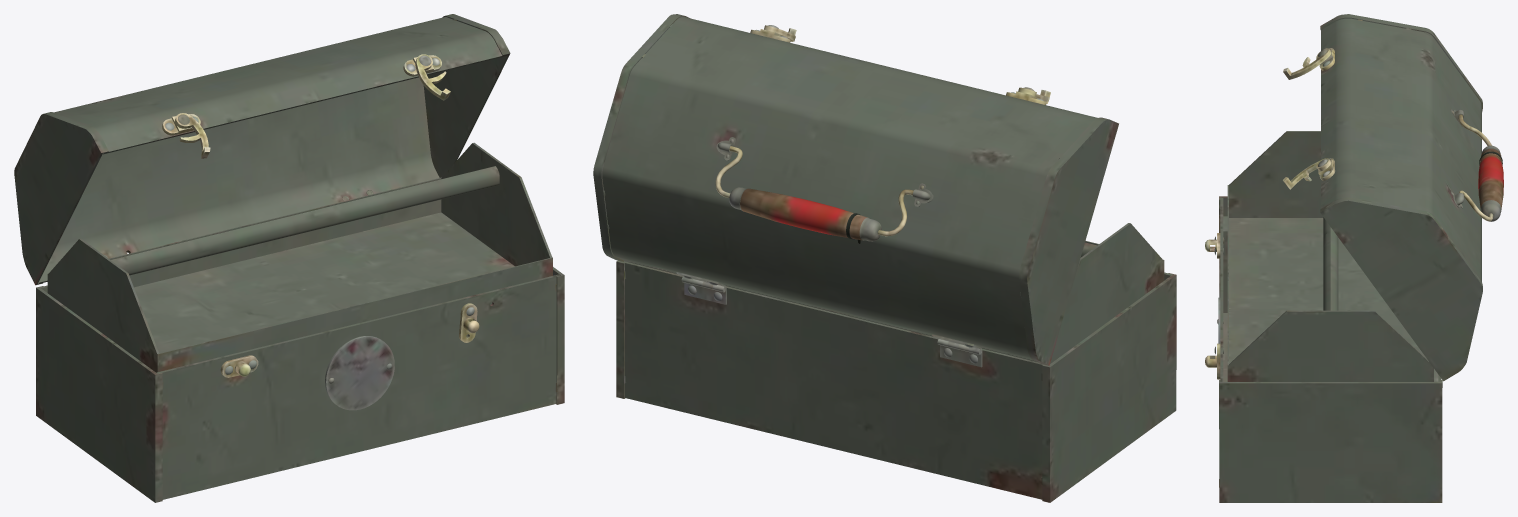
The model's file is flight-box.glb.
3 renders of one model, left to right at view 1: azimuth 30°, elevation 25°; view 2: azimuth 150°, elevation 25°; view 3: azimuth 270°, elevation 25°, orthographic. The views are drawn at different scales.
Parts seen in each view (by area): view 1: metal_toolbox; view 2: metal_toolbox; view 3: metal_toolbox.
Boxes of the visible parts, x1,y1,x2,y2 form: metal_toolbox: (14,14,564,502); metal_toolbox: (593,14,1176,502); metal_toolbox: (1205,14,1503,502).
Bounding box in the file's own units: 0.4 × 0.3047 × 0.2705.
1 material, 1 textured.
